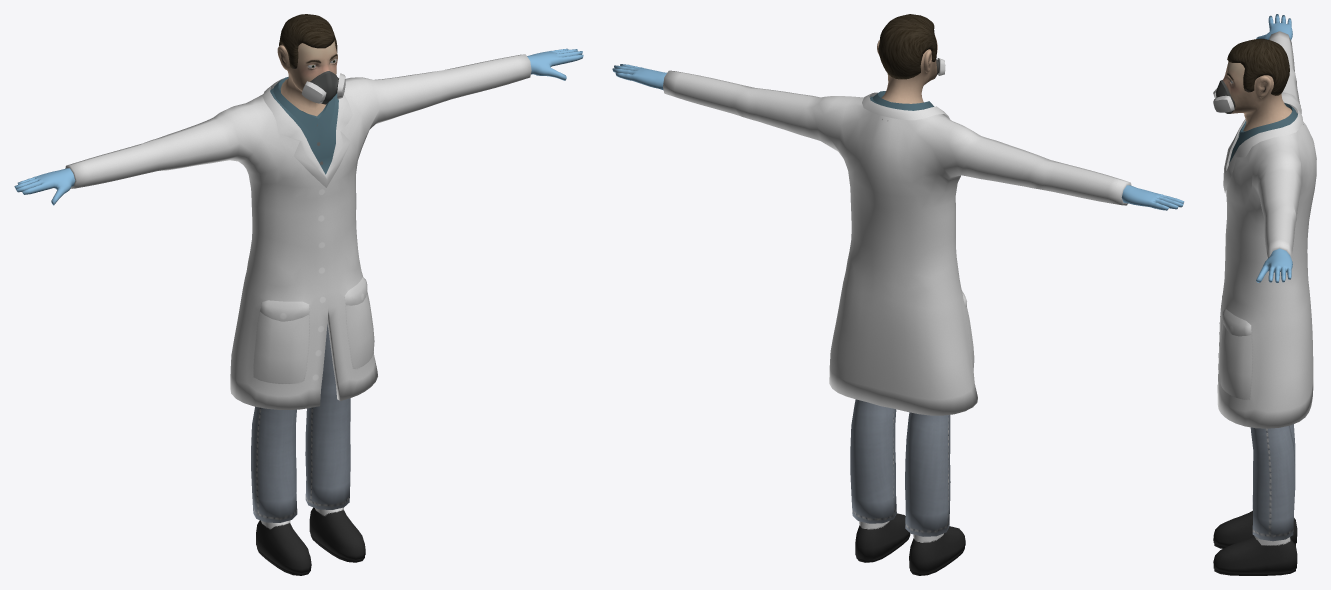
The model's file is Scientist.fbx.
3 renders of one model, left to right at view 1: azimuth 30°, elevation 25°; view 2: azimuth 150°, elevation 25°; view 3: azimuth 270°, elevation 25°, orthographic. The views are drawn at different scales.
Parts seen in each view (by area): view 1: Body; view 2: Body; view 3: Body.
Part boxes in pixels (bbox=[...]): Body: bbox=[14, 14, 583, 575]; Body: bbox=[612, 14, 1184, 575]; Body: bbox=[1213, 14, 1316, 575].
Size of the model in its own units: 367 by 330 by 60.23.
1 material, 1 textured.
